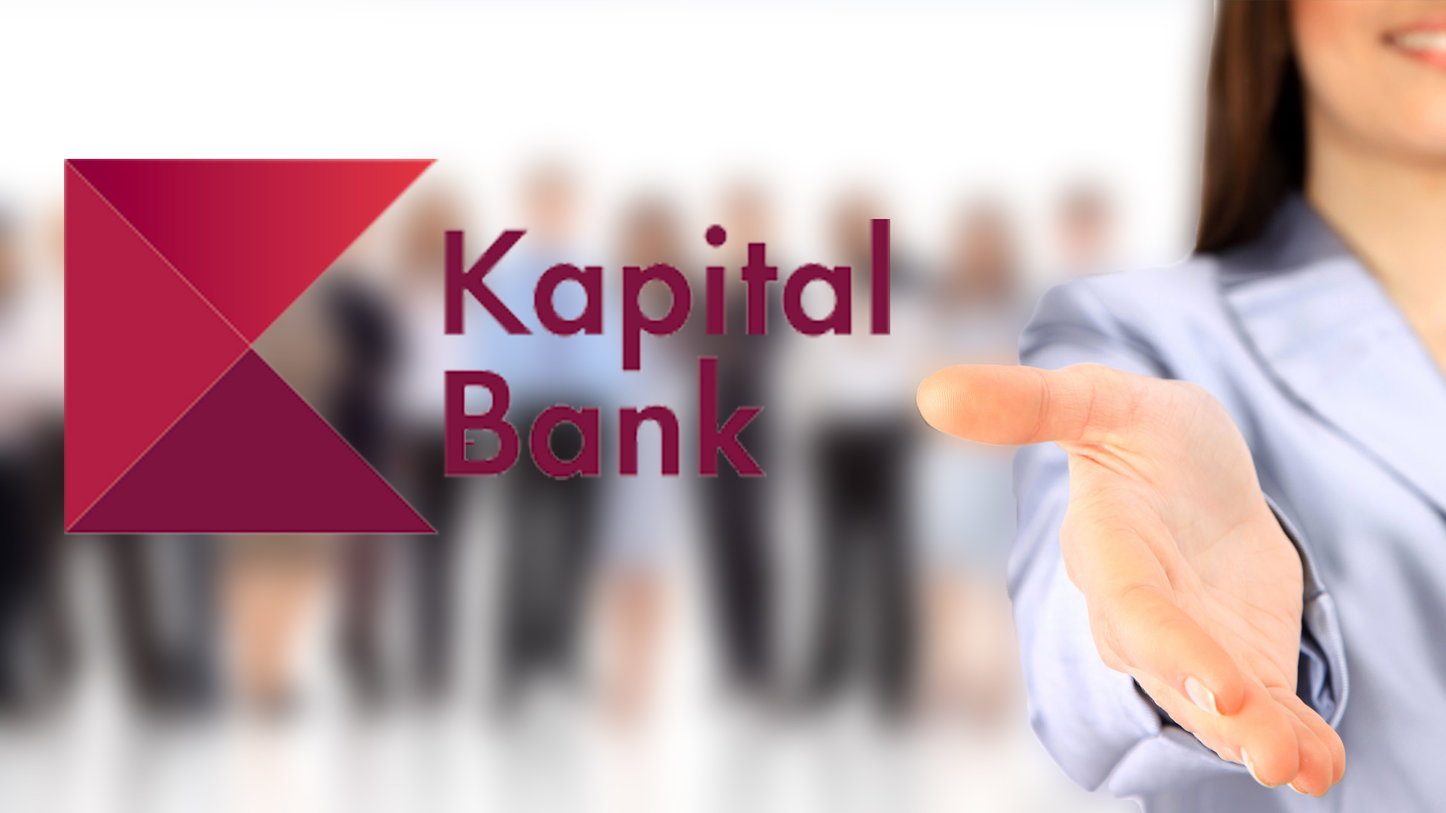Kapital Bank: (57, 151, 443, 543)
